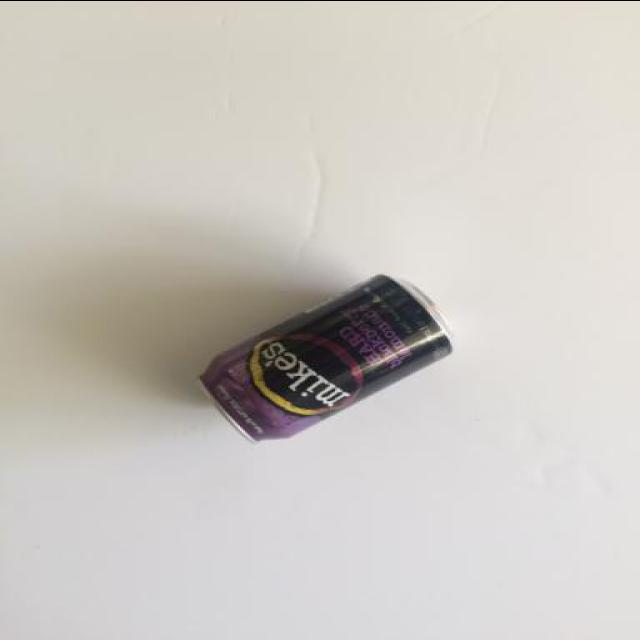Aluminum Can: (172, 256, 464, 455)
